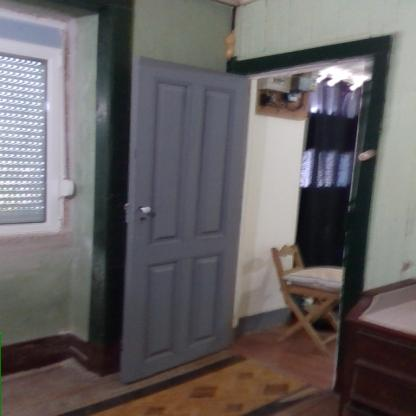open: (101, 27, 398, 386)
